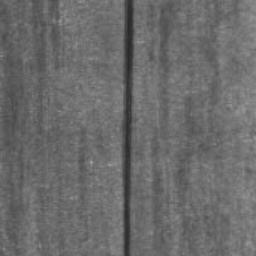Scratches: (121, 0, 136, 256)
